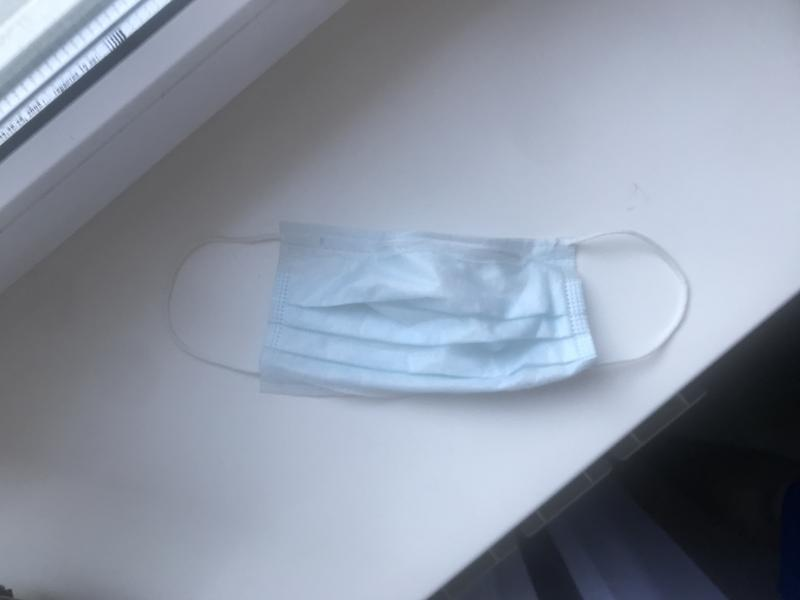medical_mask: (164, 222, 690, 391)
